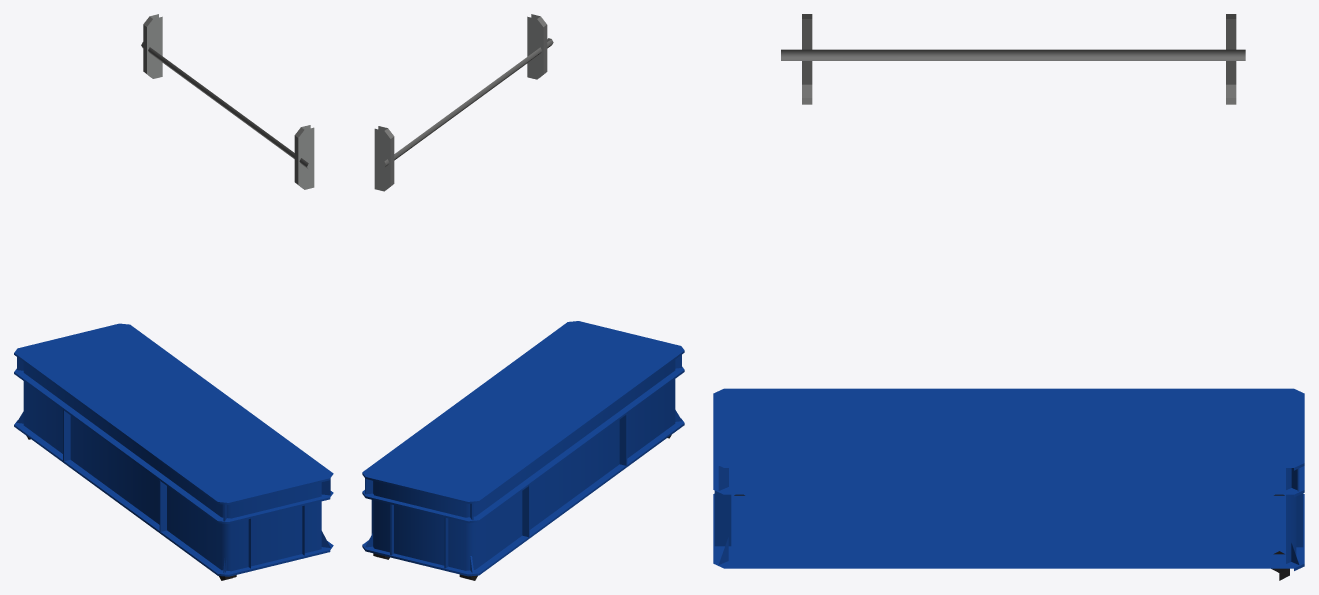
The model's file is M_huanxieyi04.FBX.
3 renders of one model, left to right at view 1: azimuth 30°, elevation 25°; view 2: azimuth 150°, elevation 25°; view 3: azimuth 270°, elevation 25°, orthographic. The views are drawn at different scales.
Visible parts, largest first — view 1: M_huanxieyi04_01, M_huanxieyi04_02; view 2: M_huanxieyi04_01, M_huanxieyi04_02; view 3: M_huanxieyi04_01, M_huanxieyi04_02.
Part boxes in pixels (bbox=[...]): M_huanxieyi04_01: bbox=[14, 323, 333, 580]; M_huanxieyi04_02: bbox=[141, 14, 314, 189]; M_huanxieyi04_01: bbox=[362, 321, 684, 580]; M_huanxieyi04_02: bbox=[374, 14, 553, 191]; M_huanxieyi04_01: bbox=[713, 388, 1304, 580]; M_huanxieyi04_02: bbox=[781, 14, 1245, 104].
Bounding box in the file's own units: 0.7886 × 2.48 × 2.32.
